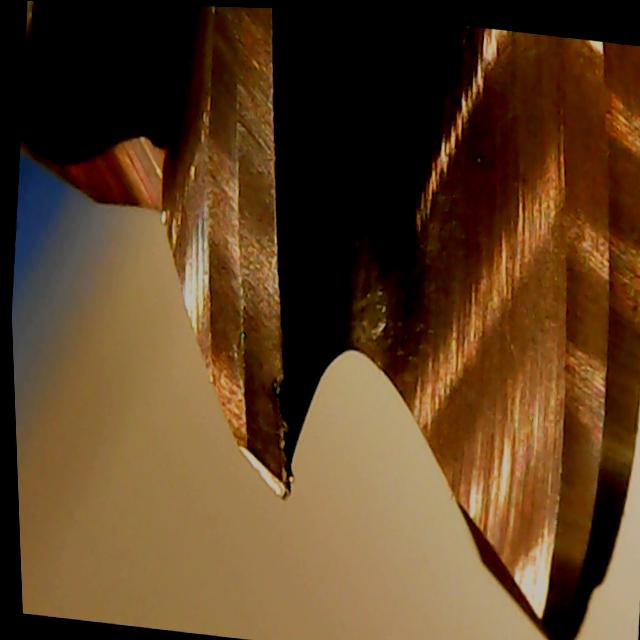Tool-wear-class-1: (159, 172, 333, 506)
